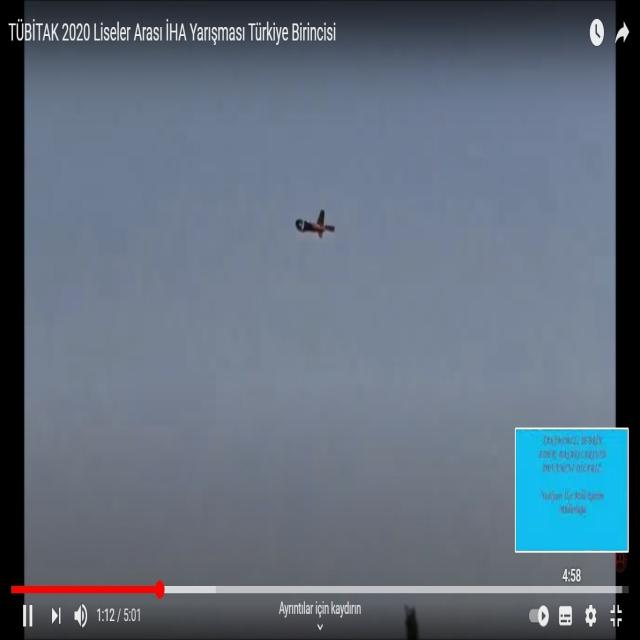iha: (295, 208, 335, 240)
